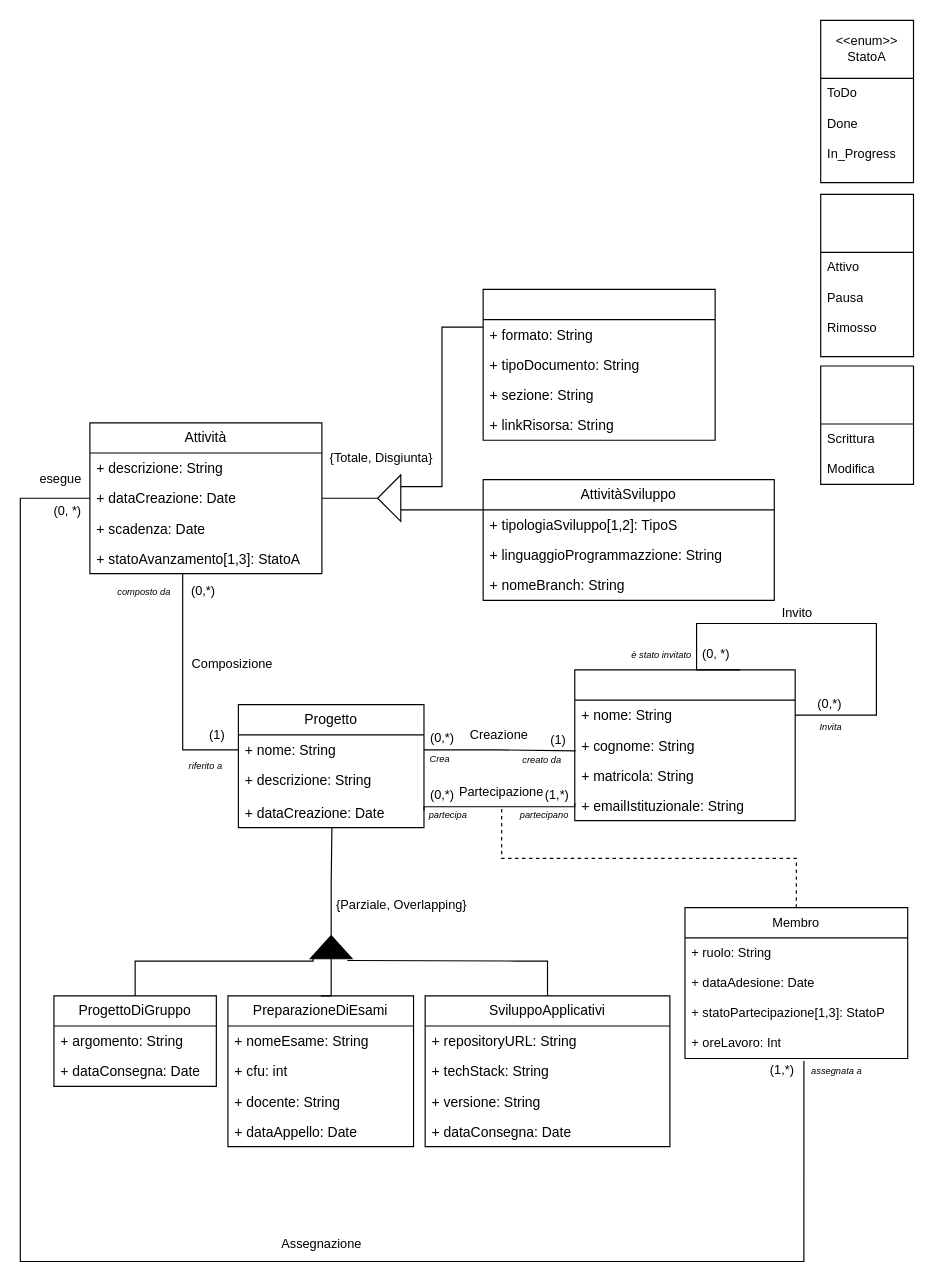
Some shapes in this 934 by 1283 pixel diagram are drawn without their labels. The box of each missing label's shape, as (x1, y1, x2, y2) in pixels:
<<enum>> StatoP: (820, 193, 913, 357)
<<enum>> TipoS: (820, 365, 913, 484)
AttivitàDocumentazione: (482, 288, 715, 440)
Utente: (574, 669, 795, 821)
